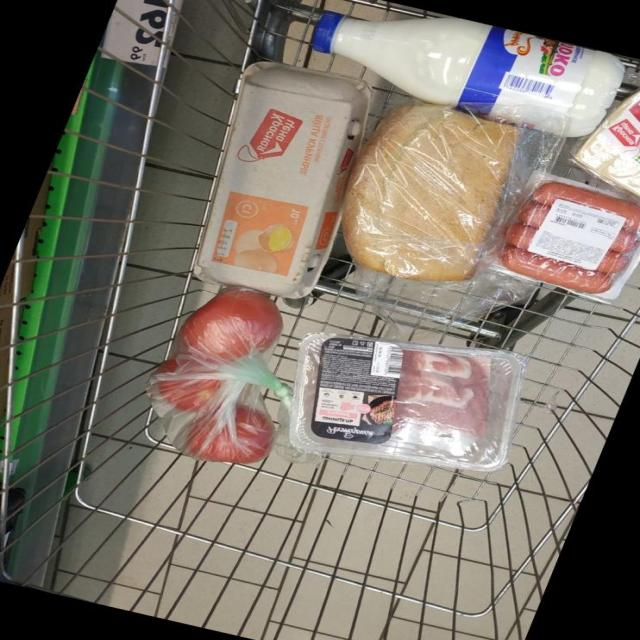Bread: (341, 103, 517, 281)
Cheese: (573, 88, 640, 196)
Eggs: (192, 61, 370, 297)
Meat: (288, 332, 526, 470)
Milk: (311, 10, 624, 136)
Sausages: (498, 180, 640, 299)
Tomatoes: (178, 286, 282, 361), (176, 404, 274, 463), (155, 377, 221, 412), (158, 359, 177, 371)
